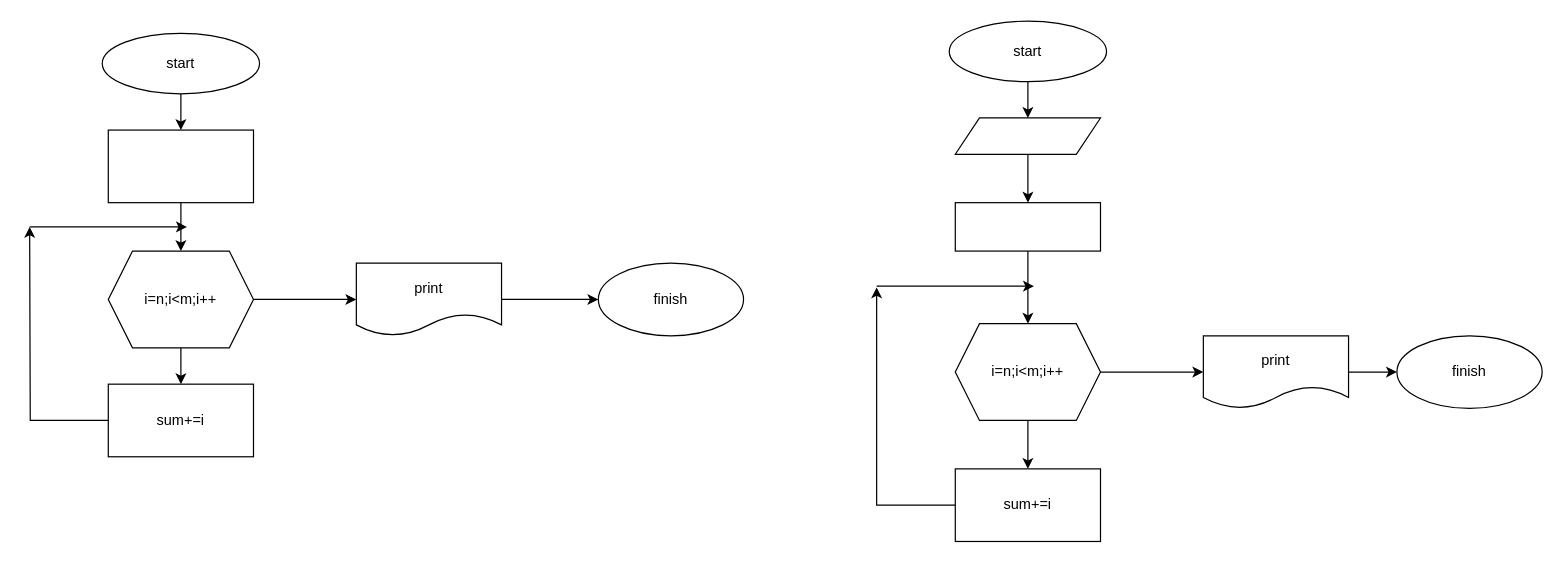
The diagram is 1563 pixels wide and 563 high, and some of its shapes have lost their labels. The box of each missing label's shape, as (x1, y1, x2, y2) in pixels:
n;m: (954, 117, 1100, 154)
n=20 m=50 sum=0: (107, 129, 253, 203)
sum=0: (954, 201, 1100, 251)
